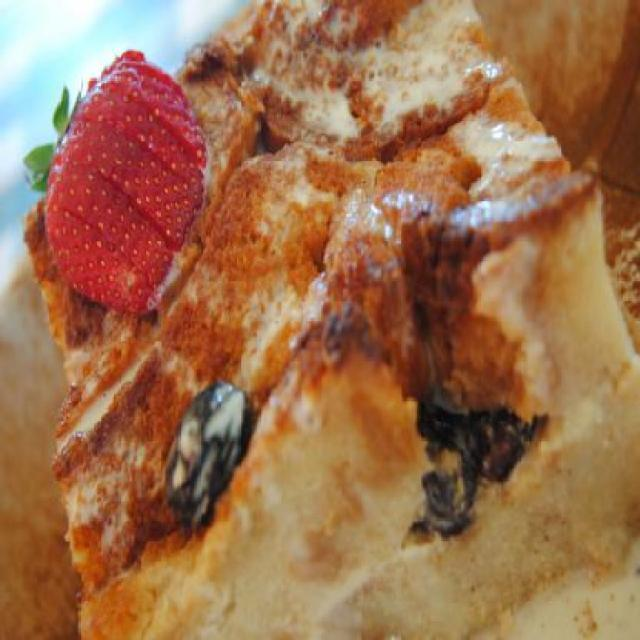Strawberry: (40, 44, 202, 328)
